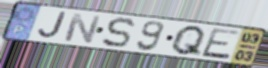9: (135, 20, 166, 52)
E: (199, 27, 242, 61)
J: (36, 11, 68, 40)
N: (62, 12, 103, 45)
Q: (169, 24, 208, 58)
S: (100, 17, 137, 49)
